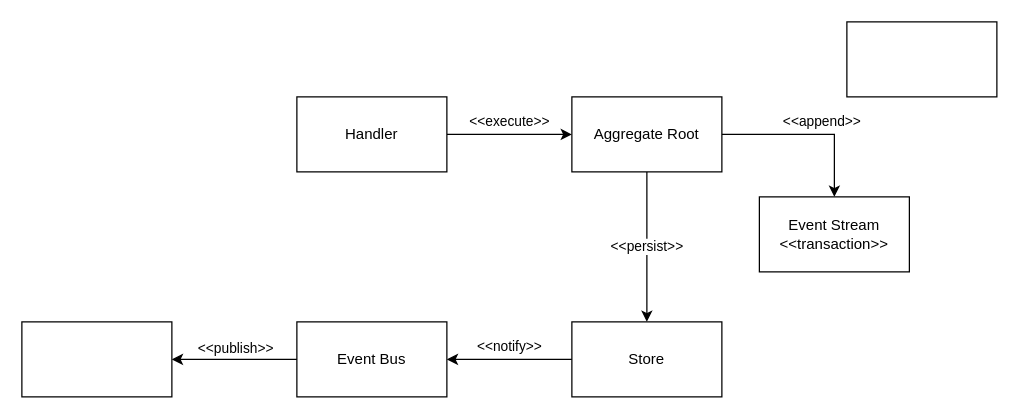
The diagram is 1019 pixels wide and 419 high, and some of its shapes have lost their labels. Each missing label, with the box of its shape:
IEvent: (846, 21, 997, 97)
Read Model: (21, 321, 172, 397)
